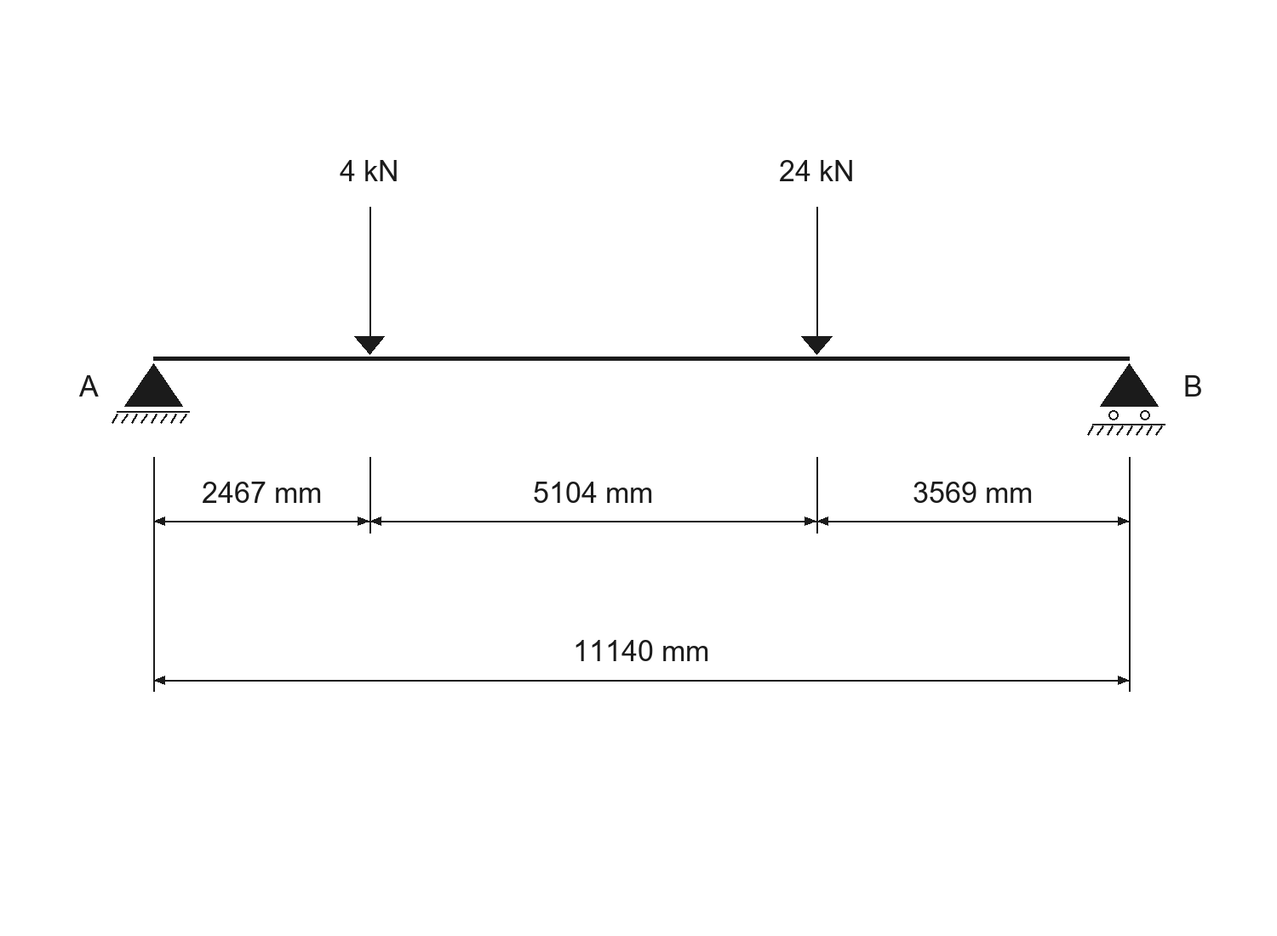pin_support: (112, 363, 190, 424)
point_load: (801, 207, 833, 355), (354, 207, 385, 355)
roller_support: (1087, 363, 1165, 436)
